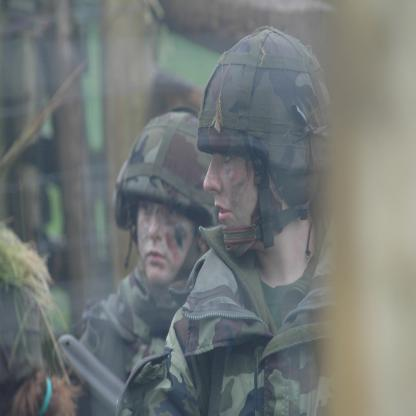Helmet: (190, 28, 334, 275), (111, 108, 220, 282)
